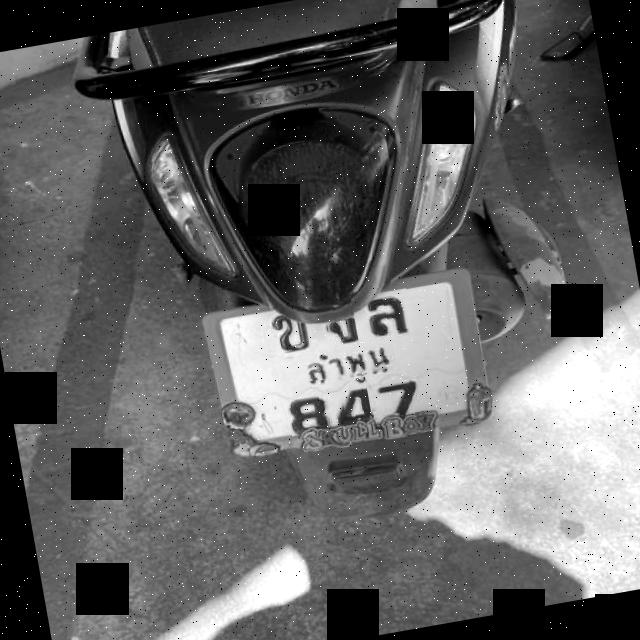letters: (283, 378, 334, 439), (369, 293, 414, 343), (384, 367, 424, 422), (270, 304, 312, 353), (320, 292, 358, 346), (337, 376, 373, 429)
license-plate: (206, 276, 486, 452)
province: (296, 340, 398, 390)
